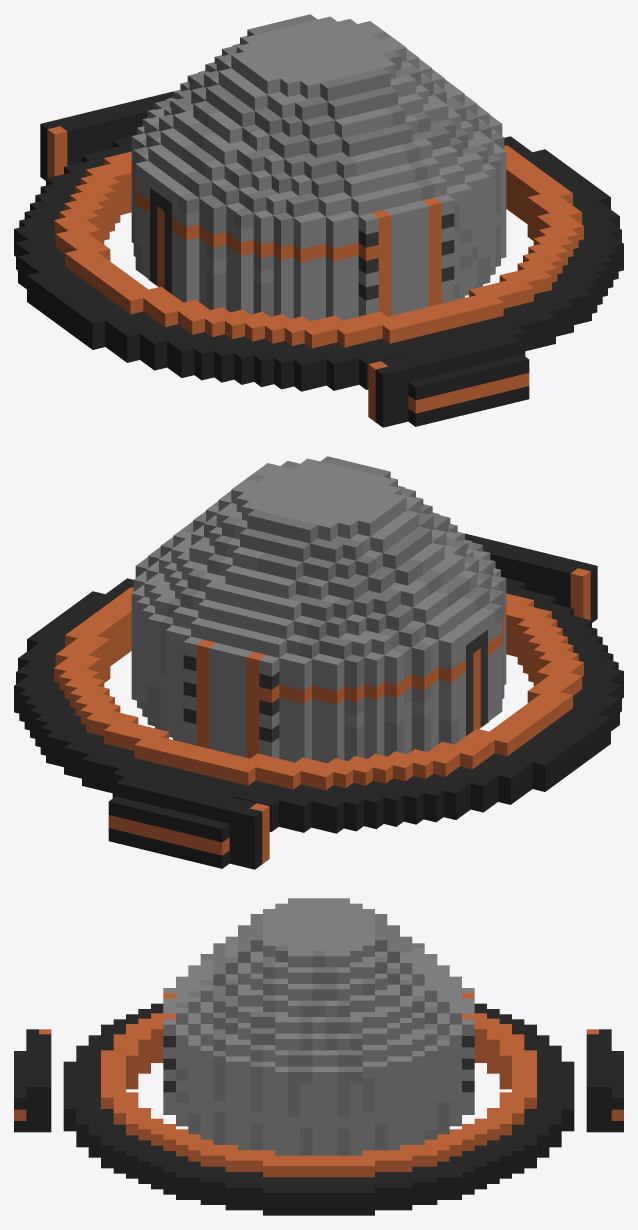
Rendered from drone.obj.
3 renders of one model, top to bottom at view 1: azimuth 30°, elevation 25°; view 2: azimuth 150°, elevation 25°; view 3: azimuth 270°, elevation 25°, orthographic. The views are drawn at different scales.
Size of the model in its own units: 4.1 by 2.1 by 4.9.
Materials: 1 (1 with a texture image).
